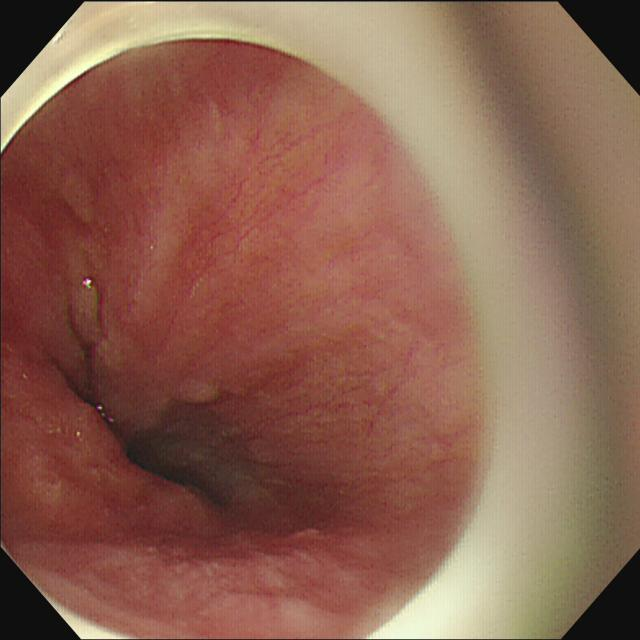E: (114, 403, 245, 518)
U: (83, 277, 97, 291)
